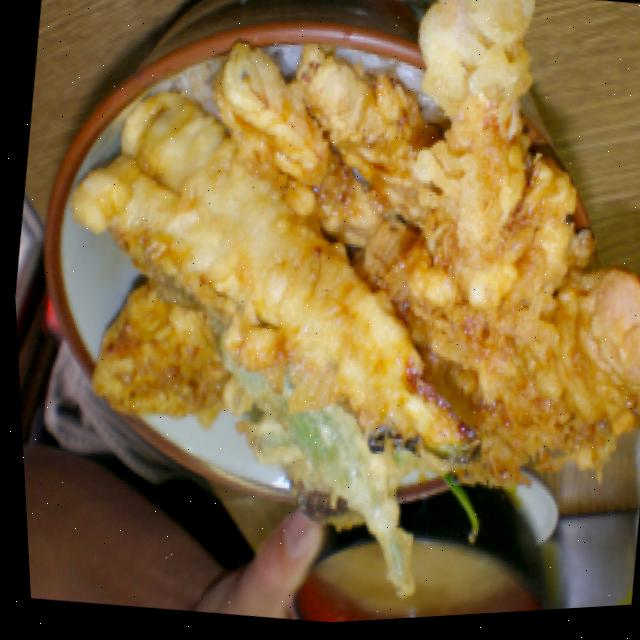汤锅炖物: (281, 514, 556, 628)
熟制海鲜: (4, 0, 640, 571)
